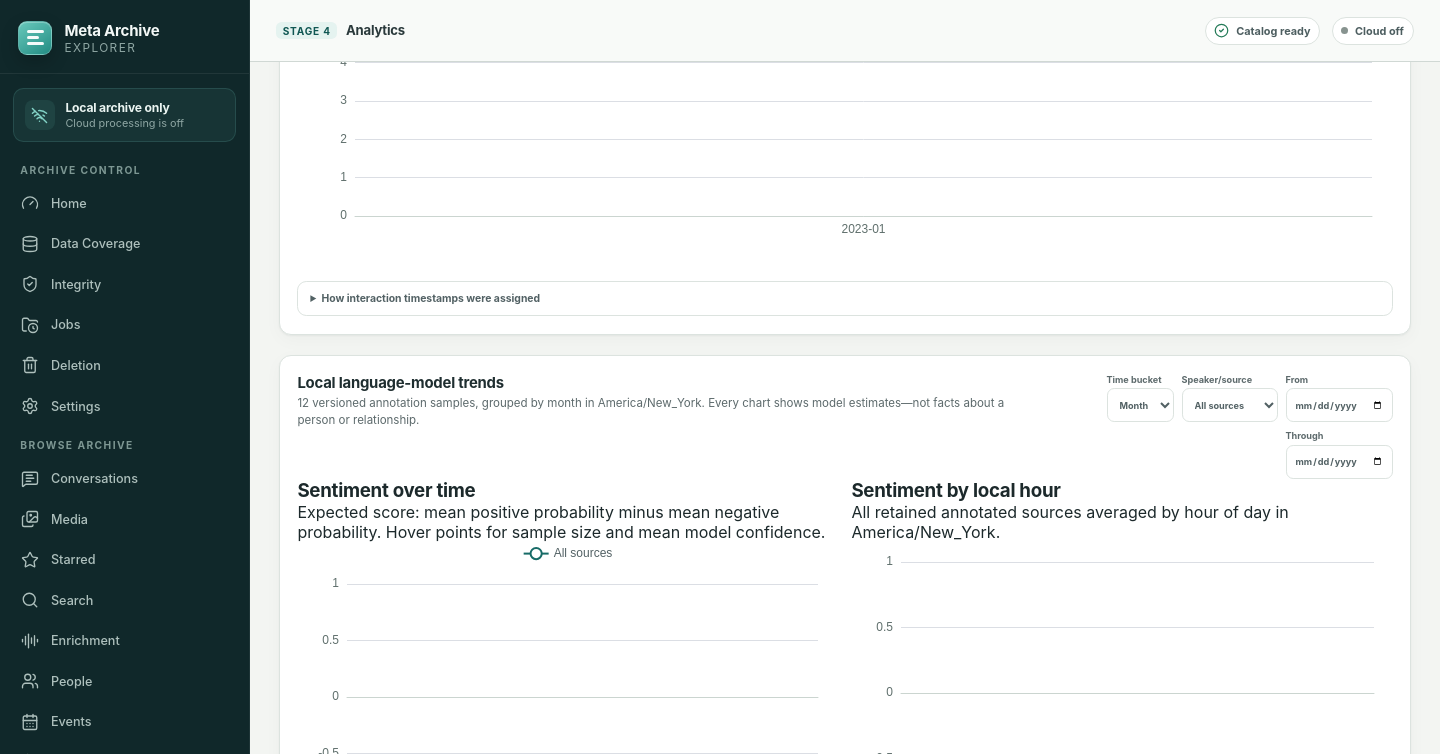
Scenario: Stage 4 archive views › keeps language-model filters usable when a date range has zero annotated results
This screenshot has width=1440, height=754.
(page scrolled)
Step 1. Type "2035-01-01" into the date field labelled "From" → (1339, 405), box top-left (1286, 388), bottom-right (1393, 422)
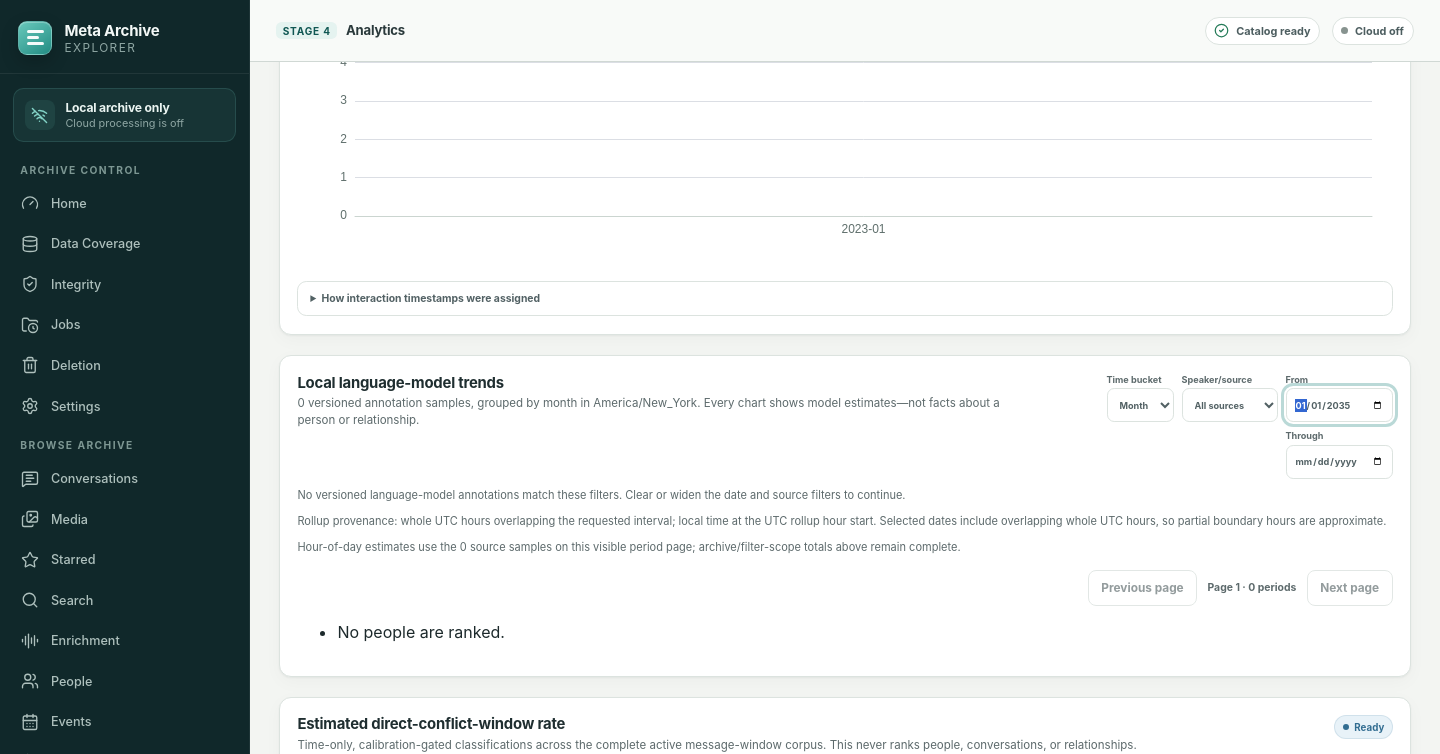
Expected: the element named "Language-model trend filters" is shown, top-left (1106, 374), bottom-right (1393, 479)
Now the text "No versioned language-model annotations match these filters. Clear or widen the date and source filters to continue." is shown, box top-left (297, 488), bottom-right (906, 502)
